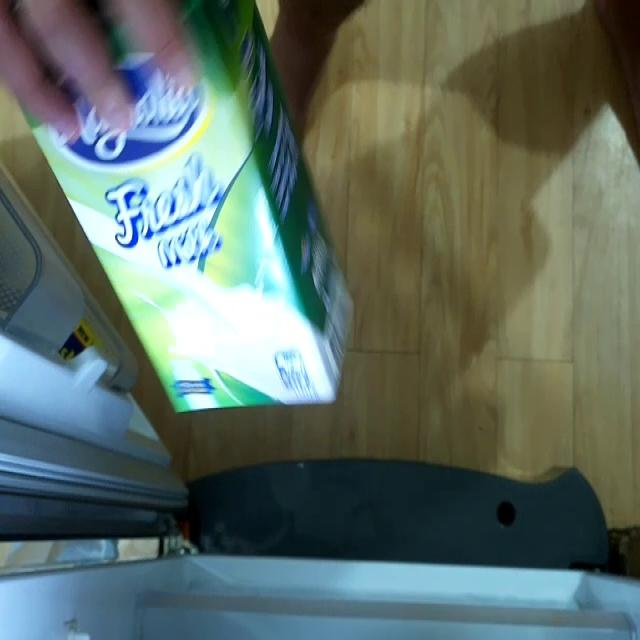milk: (16, 0, 353, 407)
